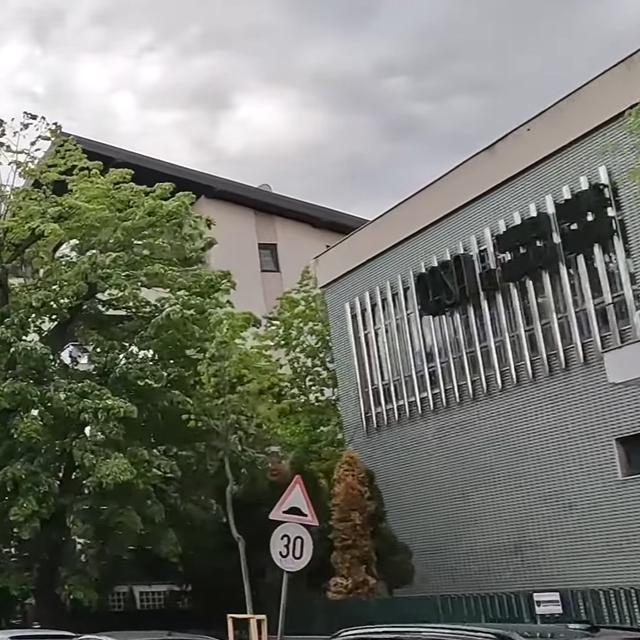forb_speed_over_30: (269, 521, 313, 572)
